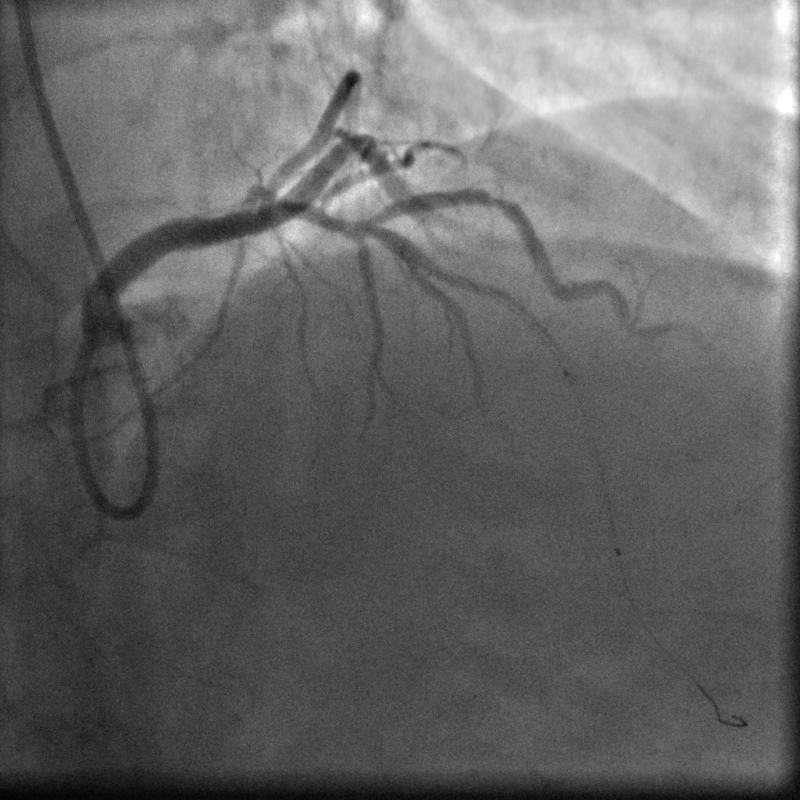Stenosis: (472, 181, 521, 222)
